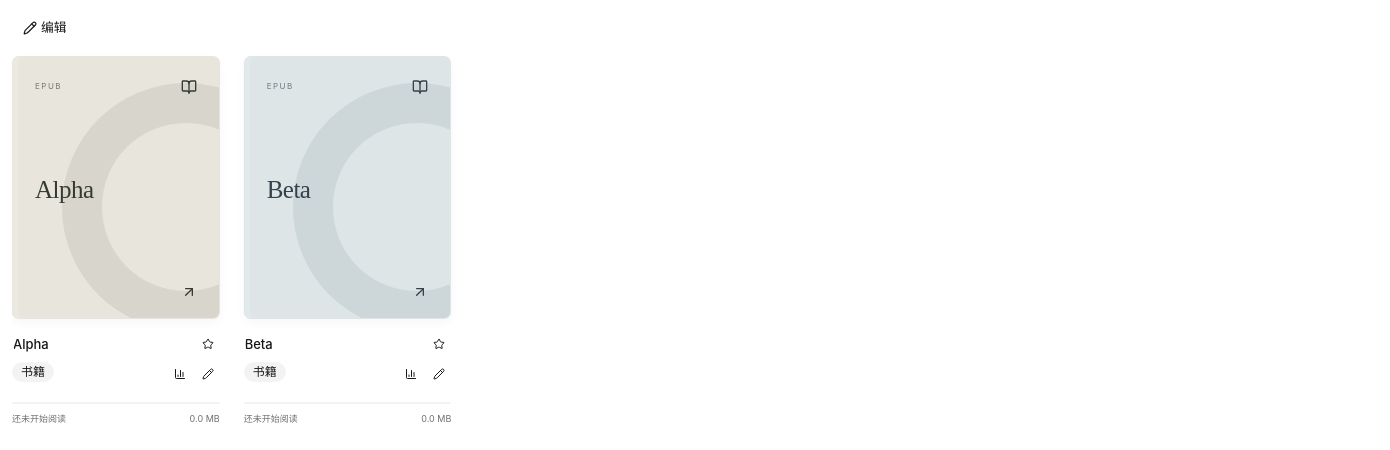
leaves selection mode after all selected documents move to the trash
The image size is (1390, 450).
Click the button "编辑" at (45,28), box [12,14,78,42]
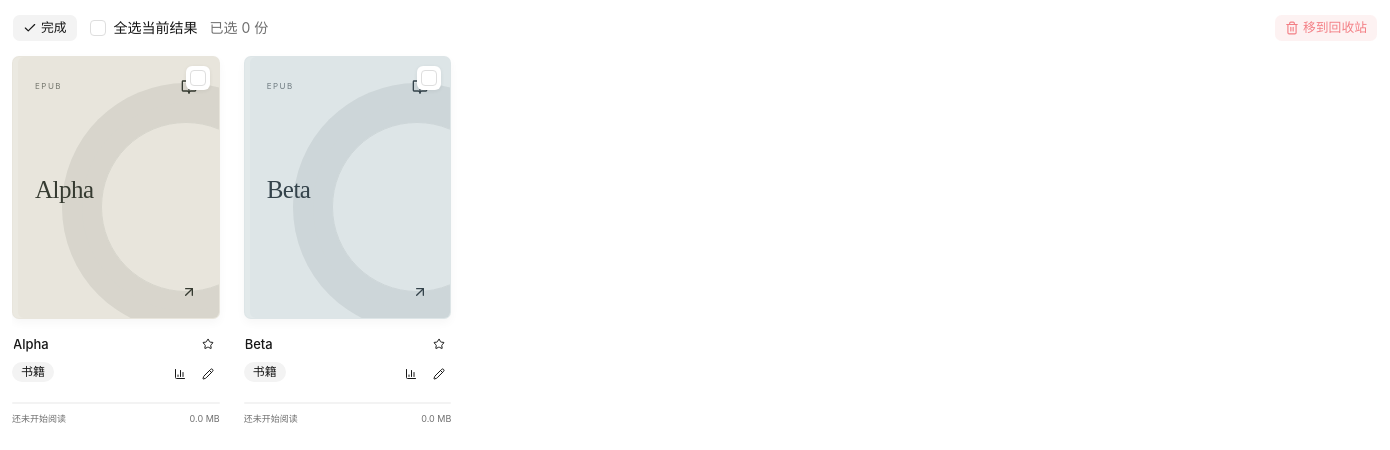
Press a in the element showing "EPUB Alpha Alpha 书籍 还未开始阅读 0.0 MB", box [12,56,220,426]
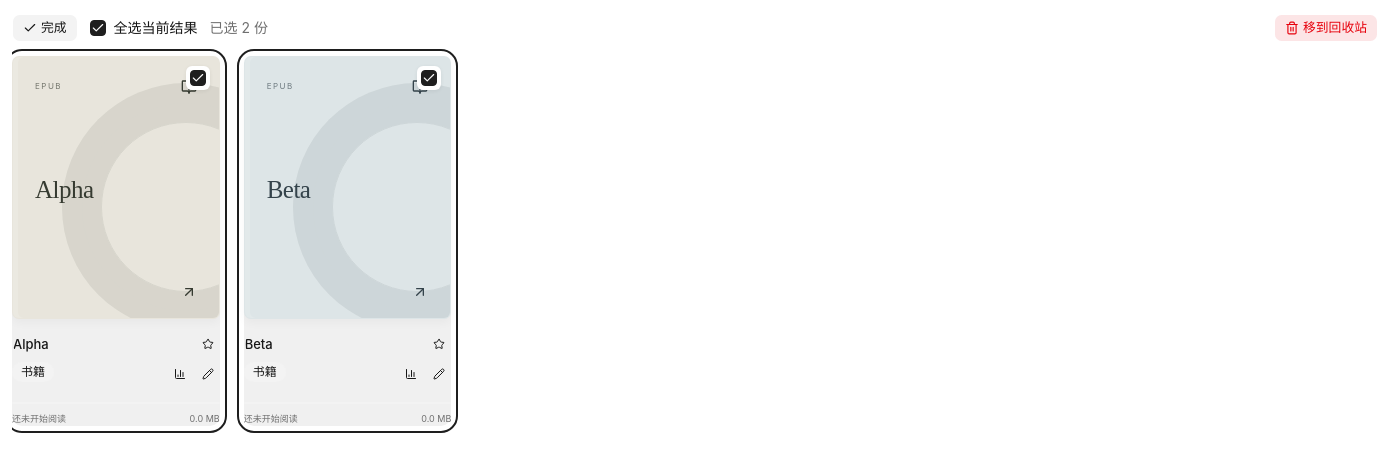
Click the button "移到回收站" at (1326,28), box [1274,14,1378,42]
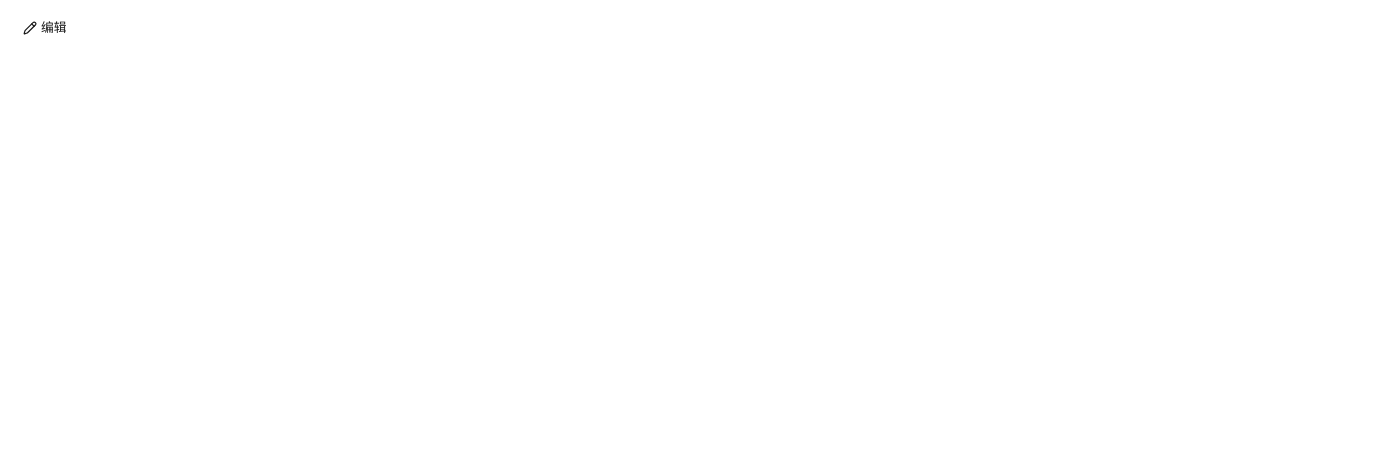
Check: the button "编辑" is shown, box [12,14,78,42]
Check: the text "已选" is gone
